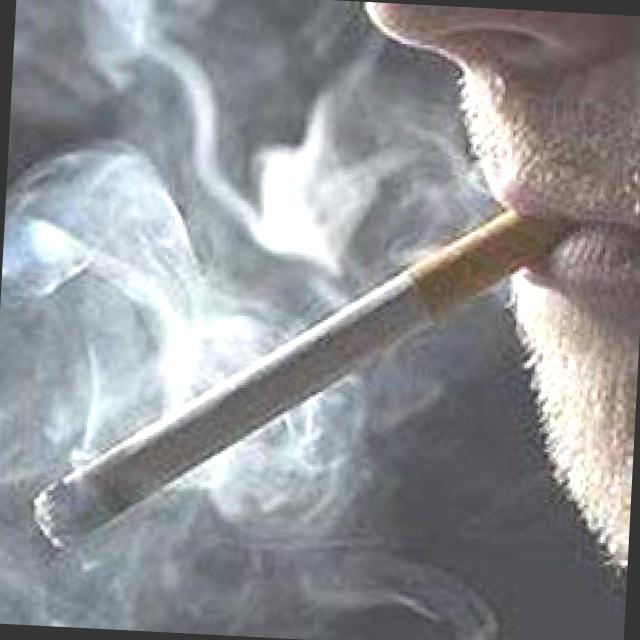smoke: (35, 190, 518, 578)
